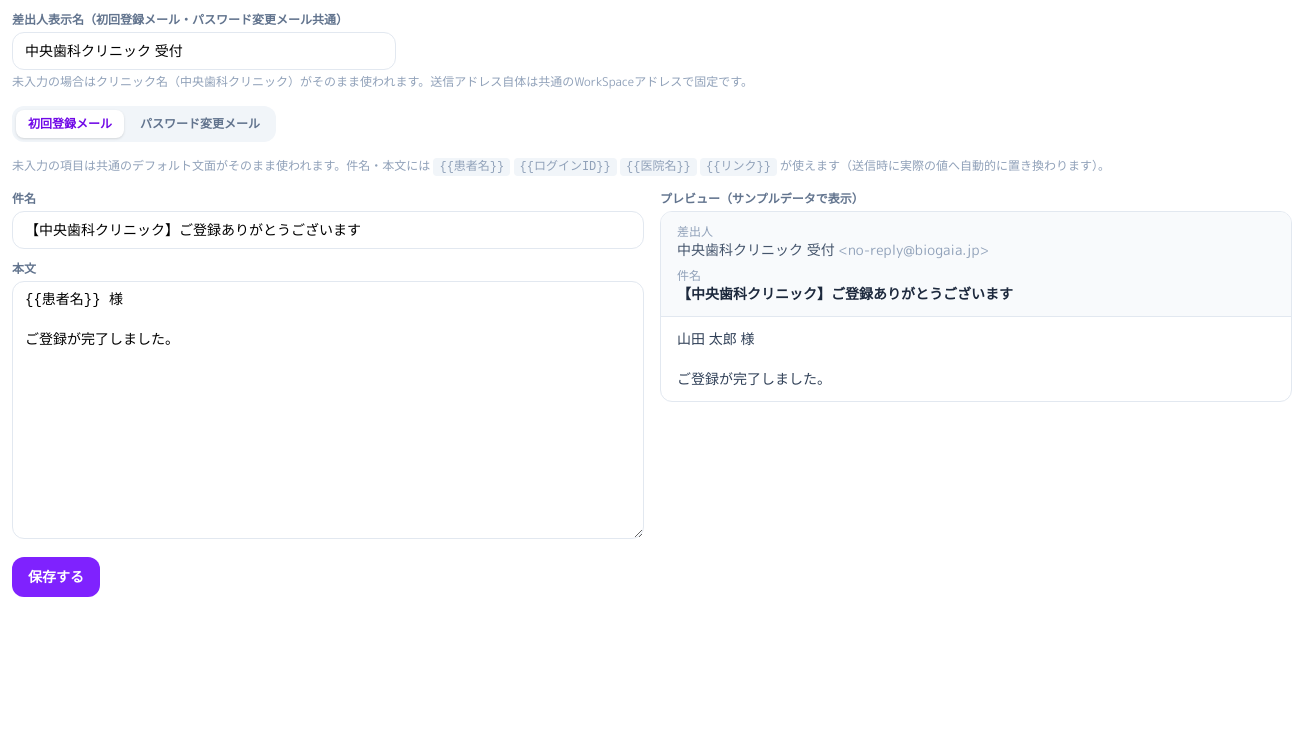
ClinicEmailTemplatesManager › 「保存する」でPATCHし、成功トーストを表示する
The width and height of the screenshot is (1292, 732).
Expected: the field showing "【中央歯科クリニック】ご登録ありがとうございます" next to "中央歯科クリニック 受付" is shown, [12,211,644,249]
Click the button "保存する" at (56, 577), box [12,557,100,597]
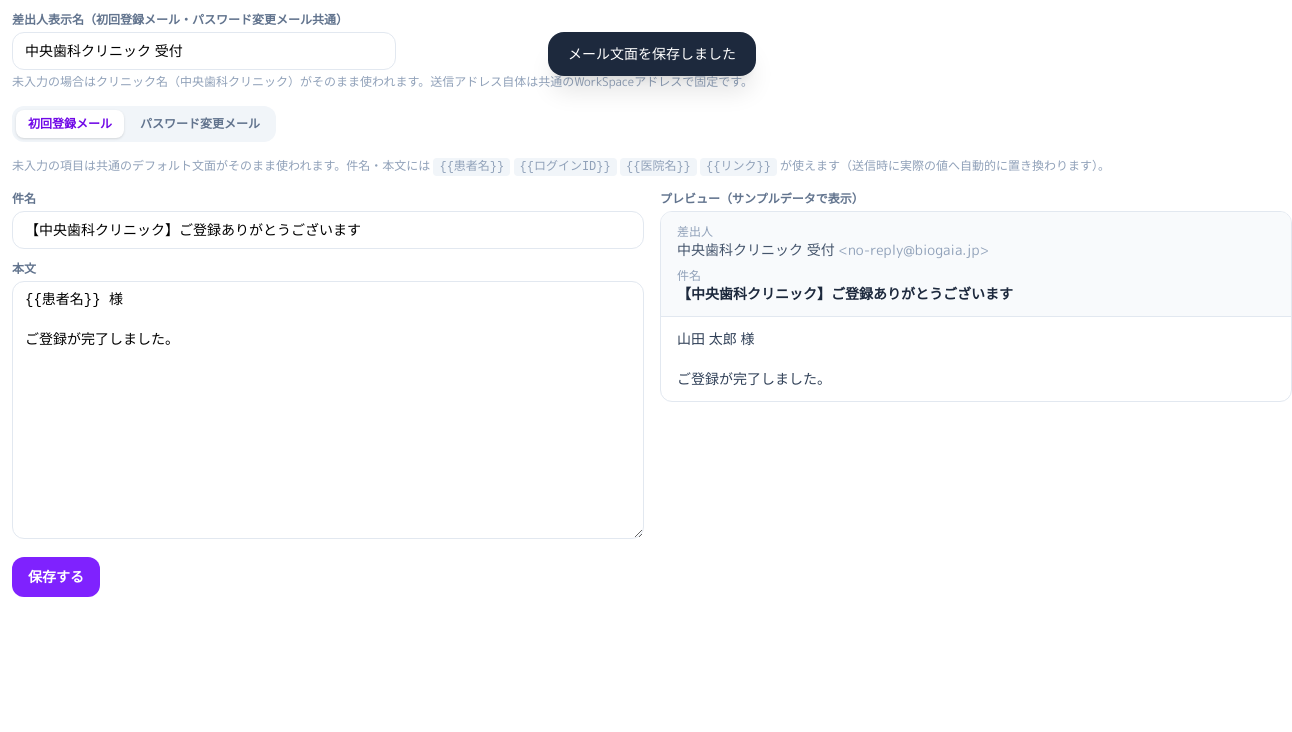
Result: the text "メール文面を保存しました" is shown at [548,32,756,76]
